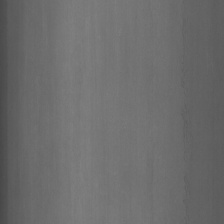silk_spot: (177, 28, 197, 206)
